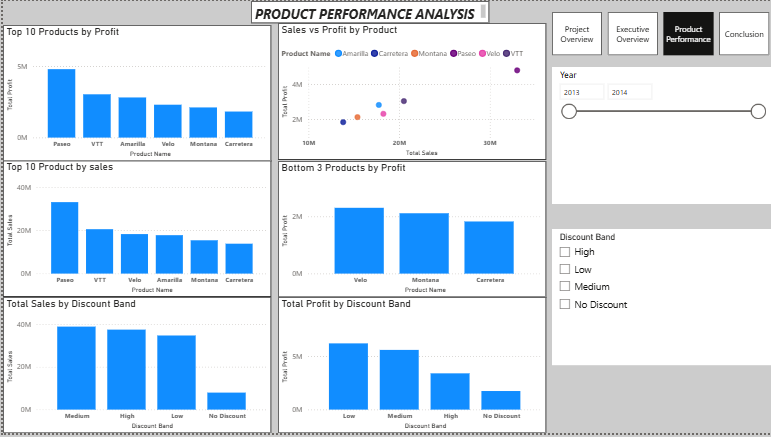

This screenshot's page, from the dashboard's own definition file:
{"tool":"powerbi","page":{"name":"Product Performance","canvas":[1280,720],"ordinal":2},"visuals":[{"type":"clusteredColumnChart","title":"Top 10 Product by sales","fields":{"Y":["measure.Total Sales"],"Category":["Sales_Data.Product Name"]},"box":[0,265,446.7,228.3],"z":0},{"type":"clusteredColumnChart","title":"Top 10 Products by Profit","fields":{"Y":["measure.Total Profit"],"Category":["Sales_Data.Product Name"]},"box":[0,40,446.7,226.7],"z":1000},{"type":"clusteredColumnChart","title":"Bottom 3 Products by Profit","fields":{"Y":["measure.Total Profit"],"Category":["Sales_Data.Product Name"]},"box":[458.3,266.7,446.7,226.7],"z":2000},{"type":"scatterChart","title":"Sales vs Profit by Product","fields":{"X":["measure.Total Sales"],"Y":["measure.Total Profit"],"Series":["Sales_Data.Product Name"]},"box":[458.3,36.7,446.7,228.3],"z":3000},{"type":"clusteredColumnChart","fields":{"Y":["measure.Total Sales"],"Category":["Sales_Data.Discount Band"]},"box":[0,493.3,446.7,226.7],"z":4000},{"type":"clusteredColumnChart","fields":{"Y":["measure.Total Profit"],"Category":["Sales_Data.Discount Band"]},"box":[458.3,493.3,446.7,226.7],"z":5000},{"type":"textbox","box":[413.3,0,396.7,36.7],"z":6000},{"type":"slicer","fields":{"Values":["Date_Table.Year"]},"box":[914.3,110,365,228],"z":6001},{"type":"slicer","fields":{"Values":["Sales_Data.Discount Band"]},"box":[914.3,380,365,227],"z":6002},{"type":"pageNavigator","box":[915,18.3,364.3,72.9],"z":6003}]}

Visuals, with their boxes in screenshot pixels (x1, y1, x2, y2), scaled from the page's 1280x720 canvas onto the 771x437 screenshot:
"Top 10 Product by sales" clusteredColumnChart: box(0, 161, 269, 299)
"Top 10 Products by Profit" clusteredColumnChart: box(0, 24, 269, 162)
"Bottom 3 Products by Profit" clusteredColumnChart: box(276, 162, 545, 299)
"Sales vs Profit by Product" scatterChart: box(276, 22, 545, 161)
clusteredColumnChart - measure.Total Sales x Sales_Data.Discount Band: box(0, 299, 269, 436)
clusteredColumnChart - measure.Total Profit x Sales_Data.Discount Band: box(276, 299, 545, 436)
textbox: box(249, 0, 488, 22)
slicer - Date_Table.Year: box(551, 67, 770, 205)
slicer - Sales_Data.Discount Band: box(551, 231, 770, 368)
pageNavigator: box(551, 11, 770, 55)
